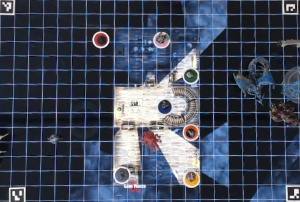blue: (158, 98, 172, 113)
green: (183, 65, 201, 83)
orange: (182, 123, 200, 141)
pink: (153, 29, 172, 49)
red: (91, 28, 110, 48)
violet: (112, 166, 131, 185)
yellow: (183, 169, 199, 187)
